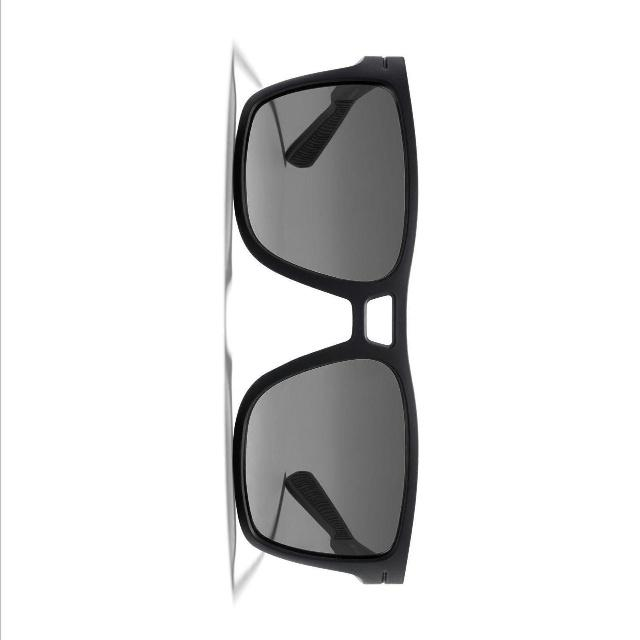Sunglasses: (210, 28, 470, 616)
